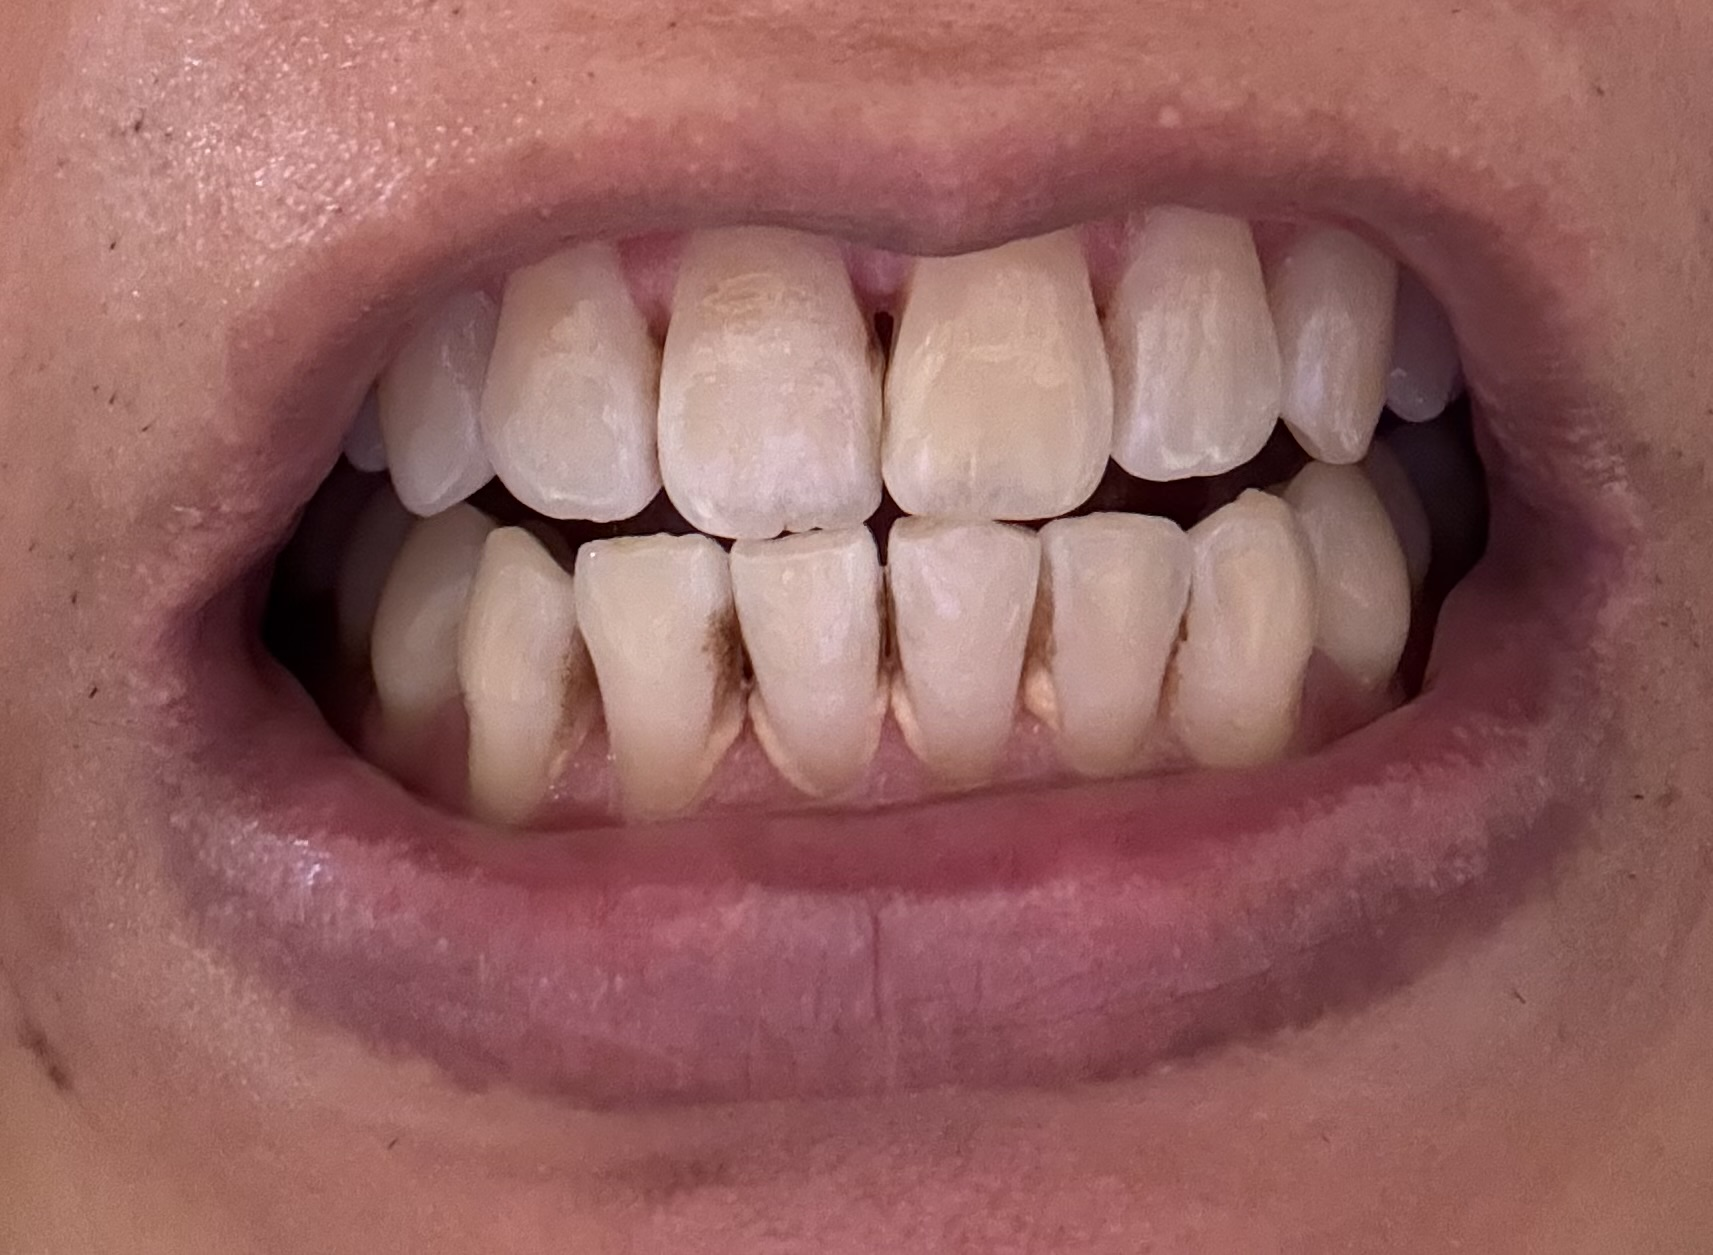teeth: (662, 237, 878, 534), (892, 237, 1105, 507), (485, 247, 656, 501), (1119, 207, 1279, 469), (580, 538, 729, 810), (738, 526, 883, 802), (1181, 492, 1325, 760), (900, 522, 1033, 782), (1053, 521, 1178, 771), (456, 532, 563, 815), (1278, 230, 1395, 471), (1302, 472, 1414, 686), (371, 512, 481, 725), (376, 299, 480, 512)
